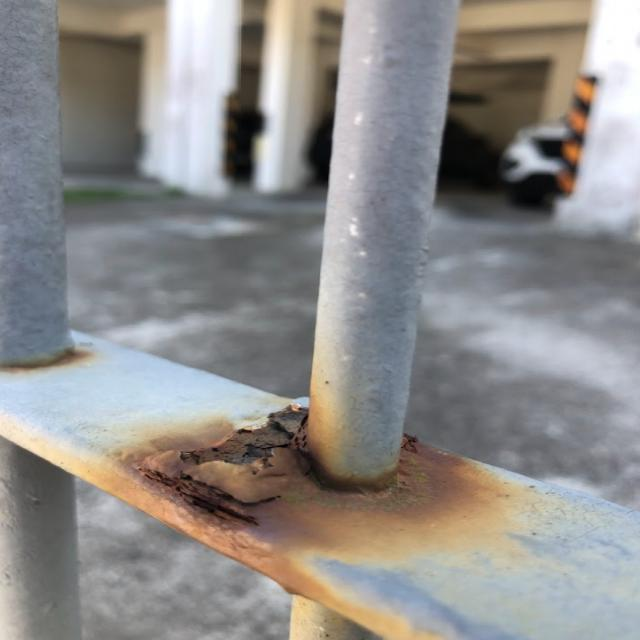Corrosion: (92, 396, 513, 613), (2, 347, 93, 374)
